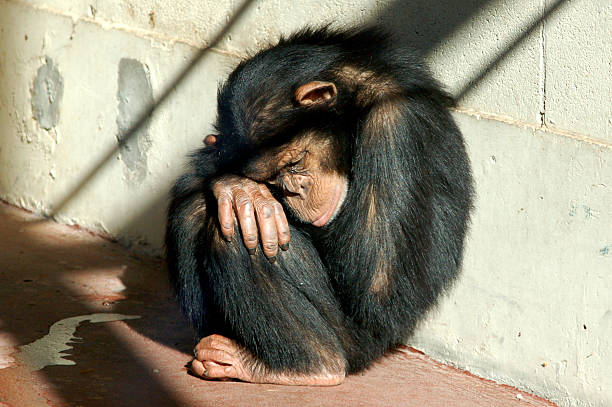chimpanzee: (202, 40, 404, 265)
